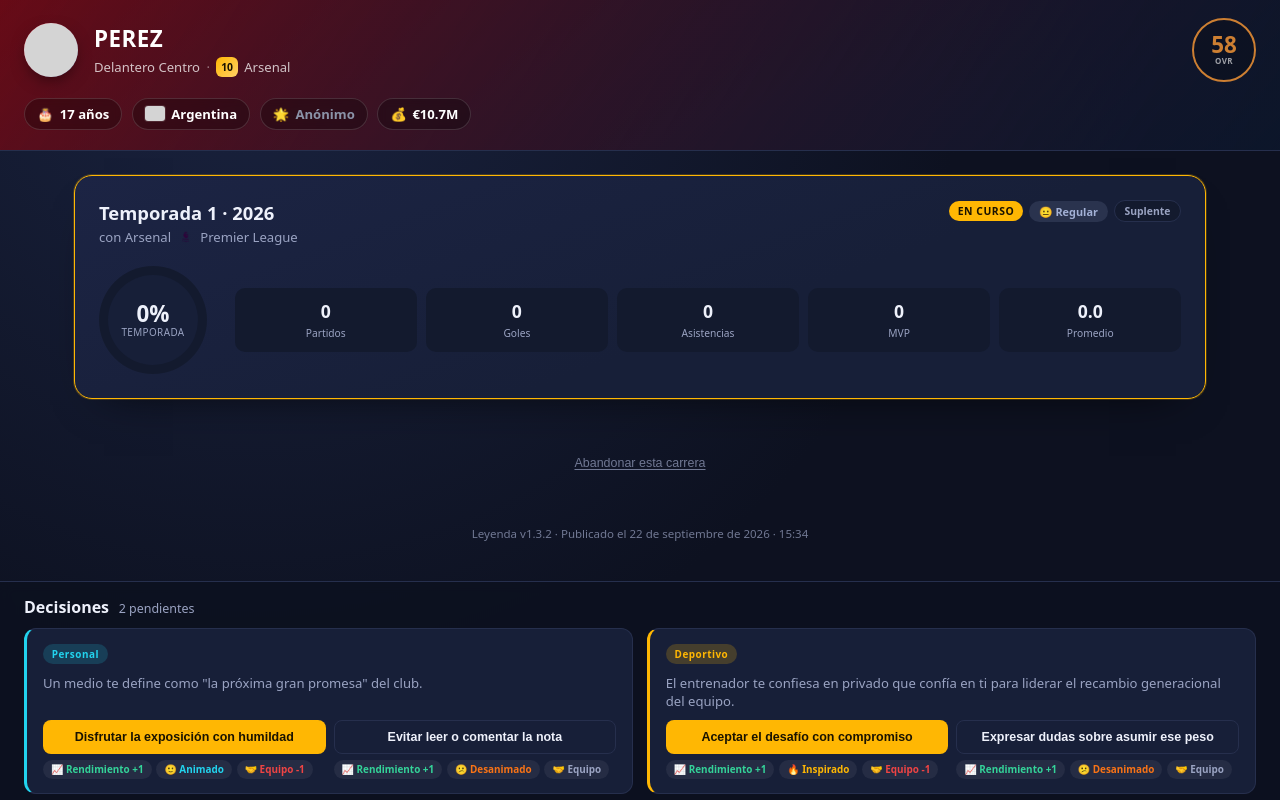
Test: CarreraView › "Cancelar" en la confirmación de abandono no borra nada
Click the button with class "abandonar__link" at (640, 463), box [570,451,710,474]
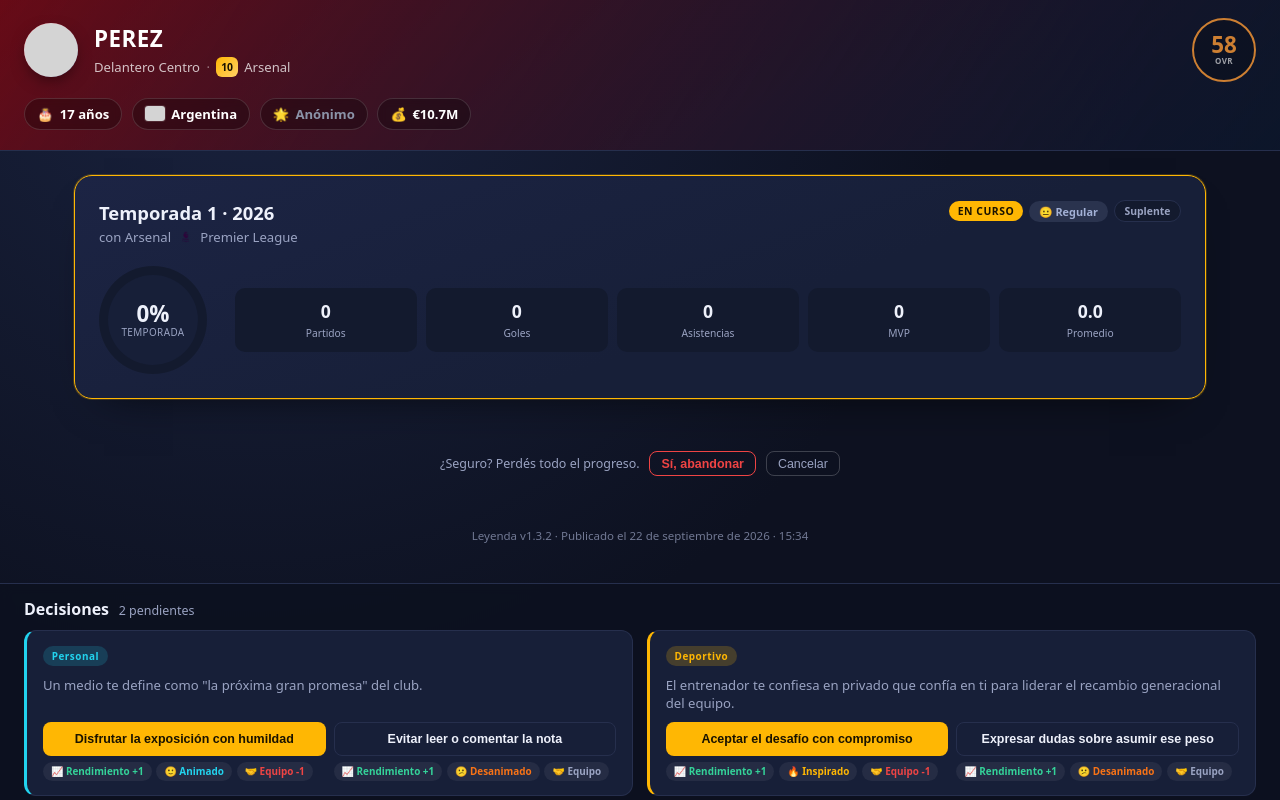
Click the button with class "abandonar__cancelar" at (803, 464), box [766,451,840,476]
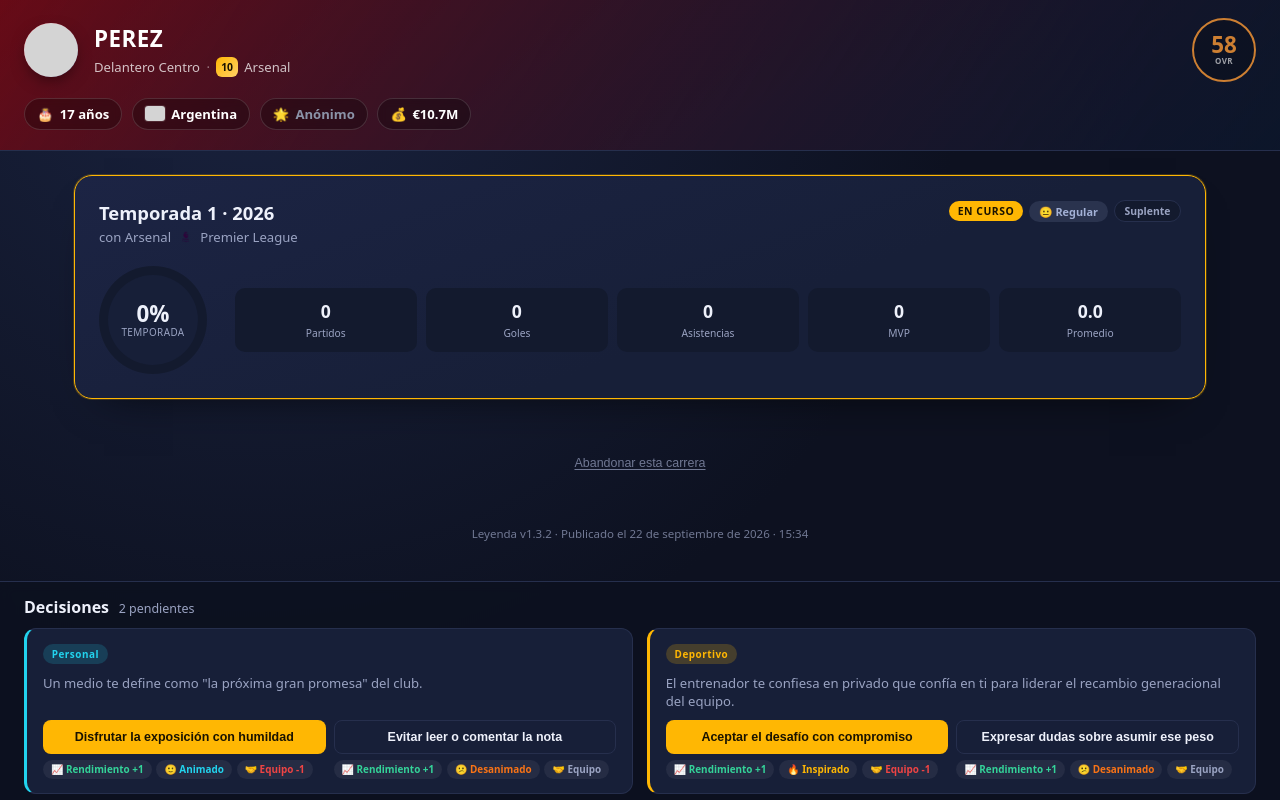
Now the text "Perdés todo el progreso" is gone
